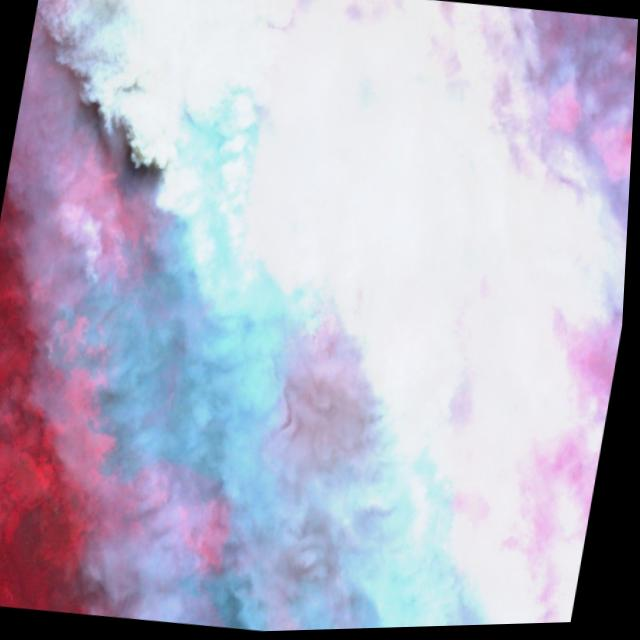fire: (54, 49, 285, 341), (349, 392, 538, 631)
